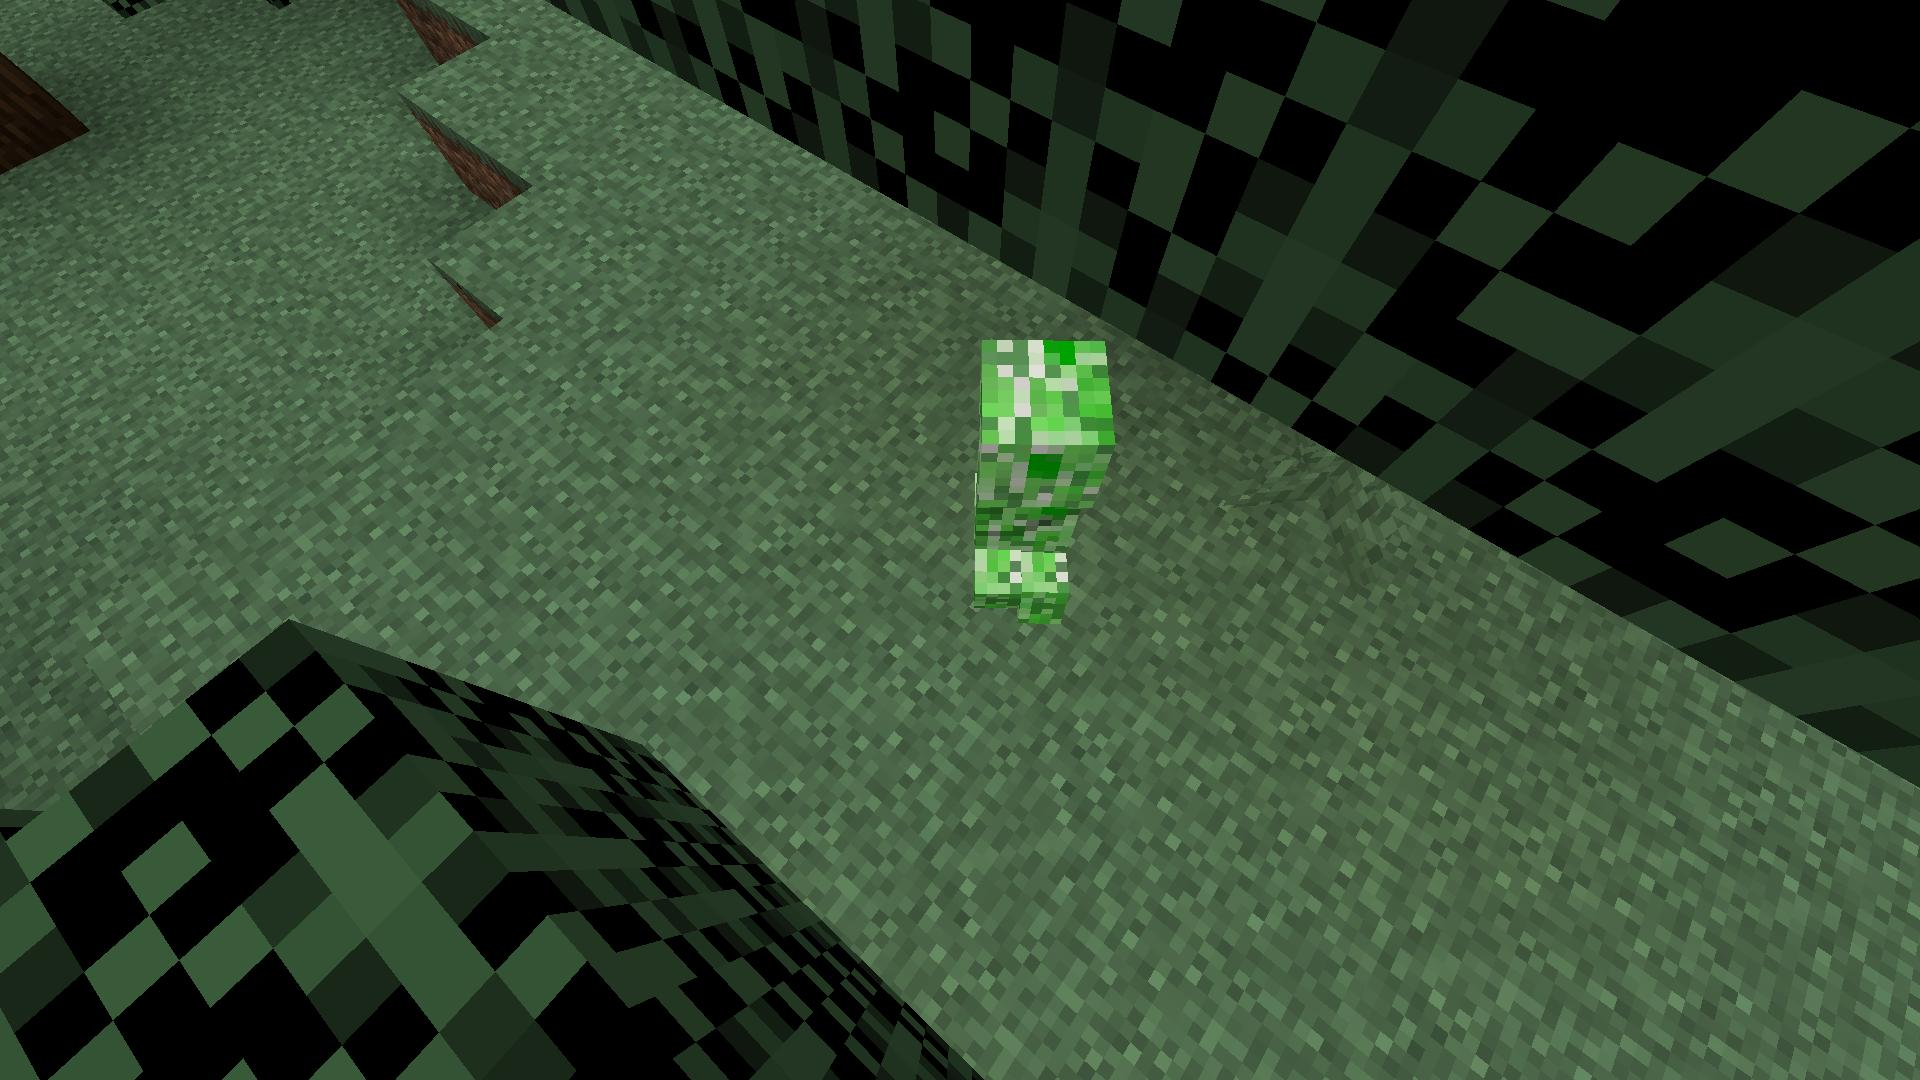creeper: (964, 320, 1121, 642)
